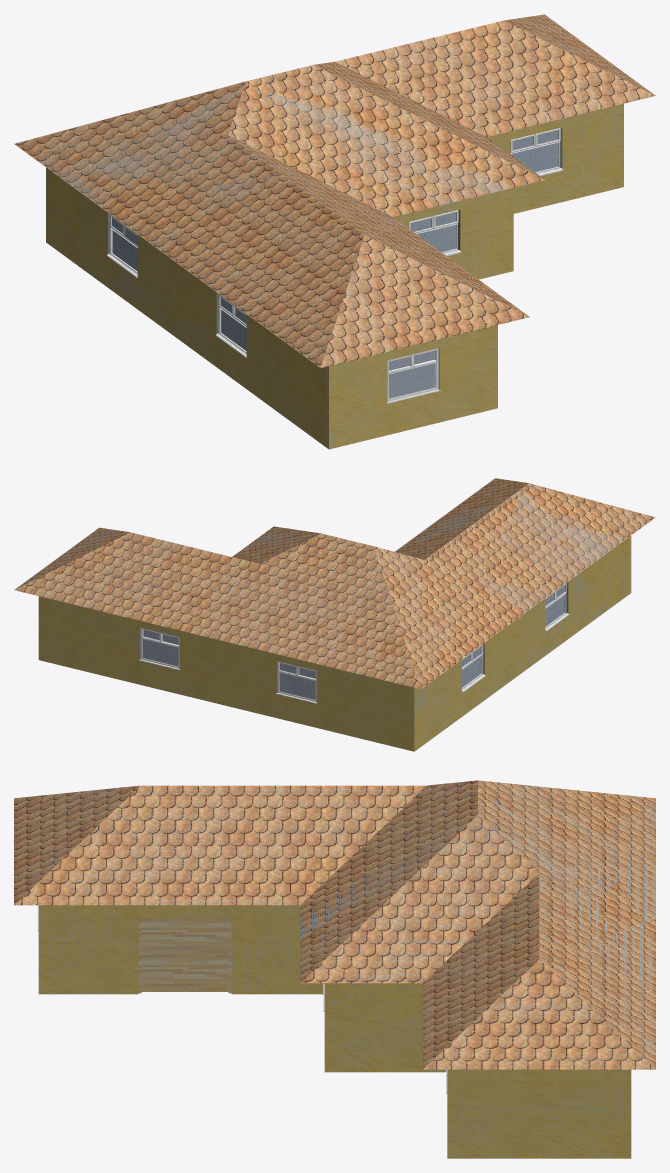
File: 36materialsketch.dae
3 views of the same model, one above another, from view 1: azimuth 30°, elevation 25°; view 2: azimuth 150°, elevation 25°; view 3: azimuth 270°, elevation 25° (orthographic). The views are drawn at different scales.
Parts seen in each view (by area): view 1: SketchUp (×6); view 2: SketchUp (×6); view 3: SketchUp (×5).
Boxes of the visible parts, x1=… form: SketchUp (×6): x1=14, y1=14, x2=655, y2=449; SketchUp (×6): x1=14, y1=478, x2=655, y2=751; SketchUp (×5): x1=14, y1=780, x2=655, y2=1158.
Size of the model in its own units: 61.81 by 61.81 by 20.44.
Materials: 11 (6 with a texture image).
